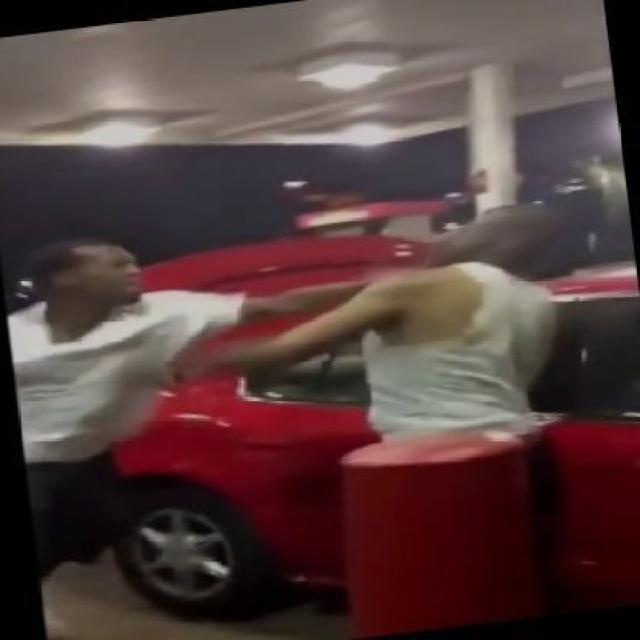fight: (0, 195, 582, 589)
